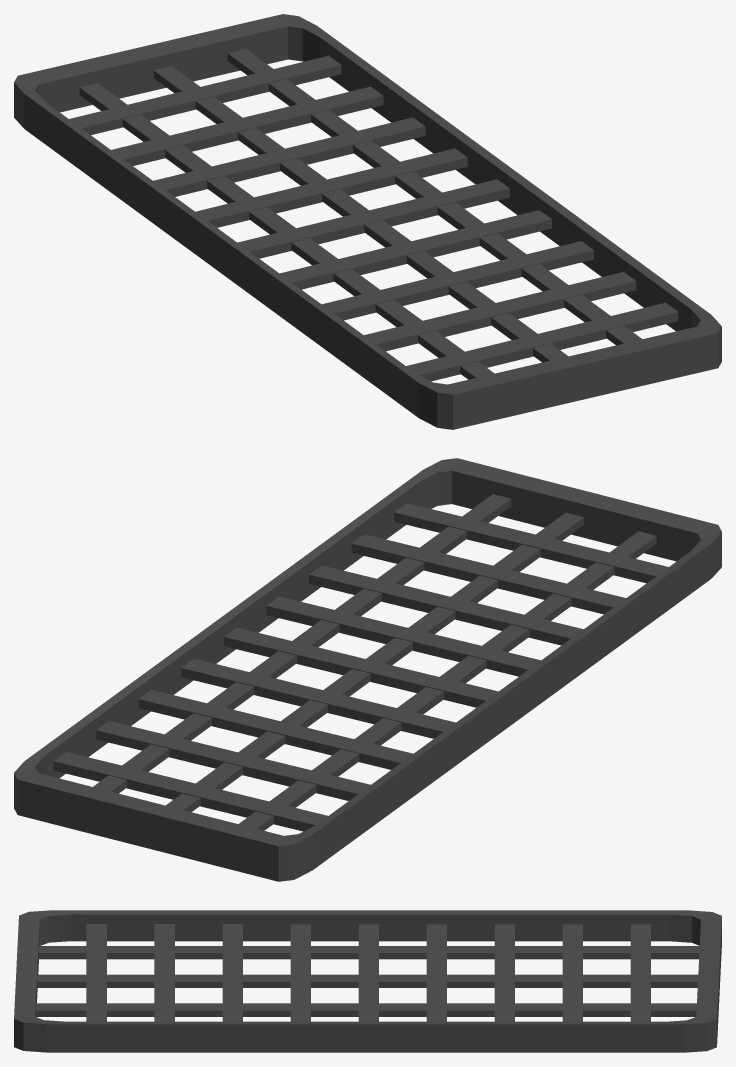
The model's file is schodek.obj.
The picture shows the model from 3 angles, top to bottom: view 1: azimuth 30°, elevation 25°; view 2: azimuth 150°, elevation 25°; view 3: azimuth 270°, elevation 25°; orthographic projection. The views are drawn at different scales.
Visible parts, largest first — view 1: Schodek.NR2.022_Cube.054; view 2: Schodek.NR2.022_Cube.054; view 3: Schodek.NR2.022_Cube.054.
Boxes of the visible parts, x1,y1,x2,y2 form: Schodek.NR2.022_Cube.054: [14, 14, 721, 429]; Schodek.NR2.022_Cube.054: [14, 458, 721, 881]; Schodek.NR2.022_Cube.054: [14, 910, 721, 1052].
Bounding box in the file's own units: 1.98 × 0.2303 × 5.2.
1 material, 1 textured.
